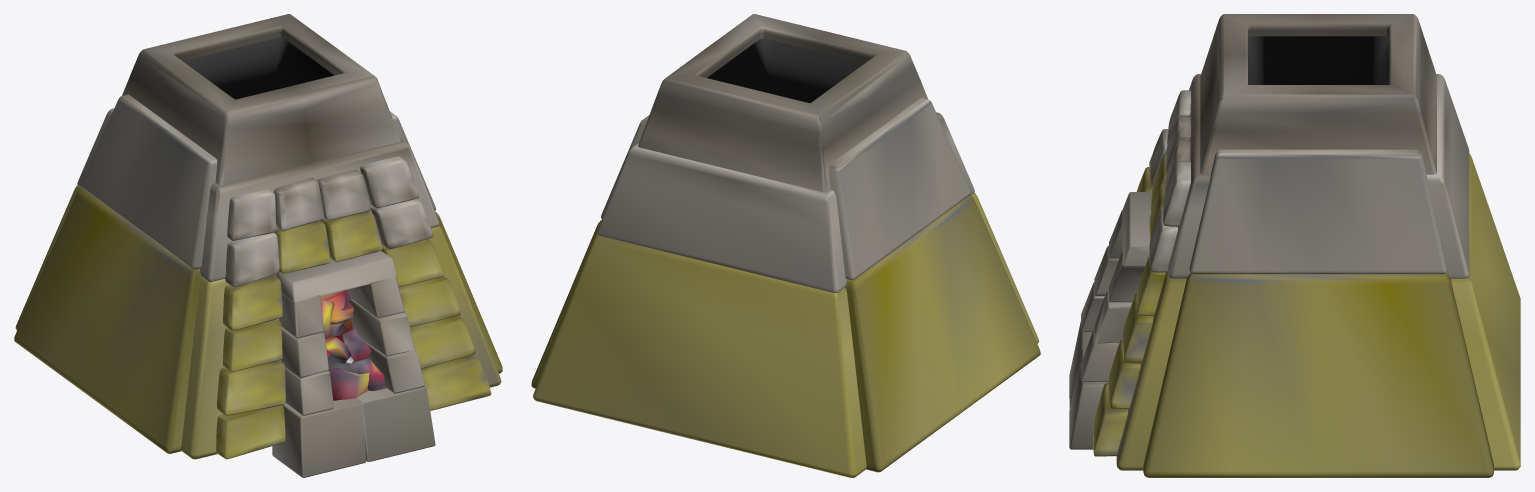
The model's file is stone-furnace.glb.
3 renders of one model, left to right at view 1: azimuth 30°, elevation 25°; view 2: azimuth 150°, elevation 25°; view 3: azimuth 270°, elevation 25°, orthographic. The views are drawn at different scales.
Parts seen in each view (by area): view 1: modelo; view 2: modelo; view 3: modelo.
Part boxes in pixels (x1,y1,x2,y2): modelo: (14, 14, 502, 477); modelo: (531, 14, 1040, 477); modelo: (1069, 14, 1520, 477).
Bounding box in the file's own units: 3.67 × 3.33 × 3.79.
